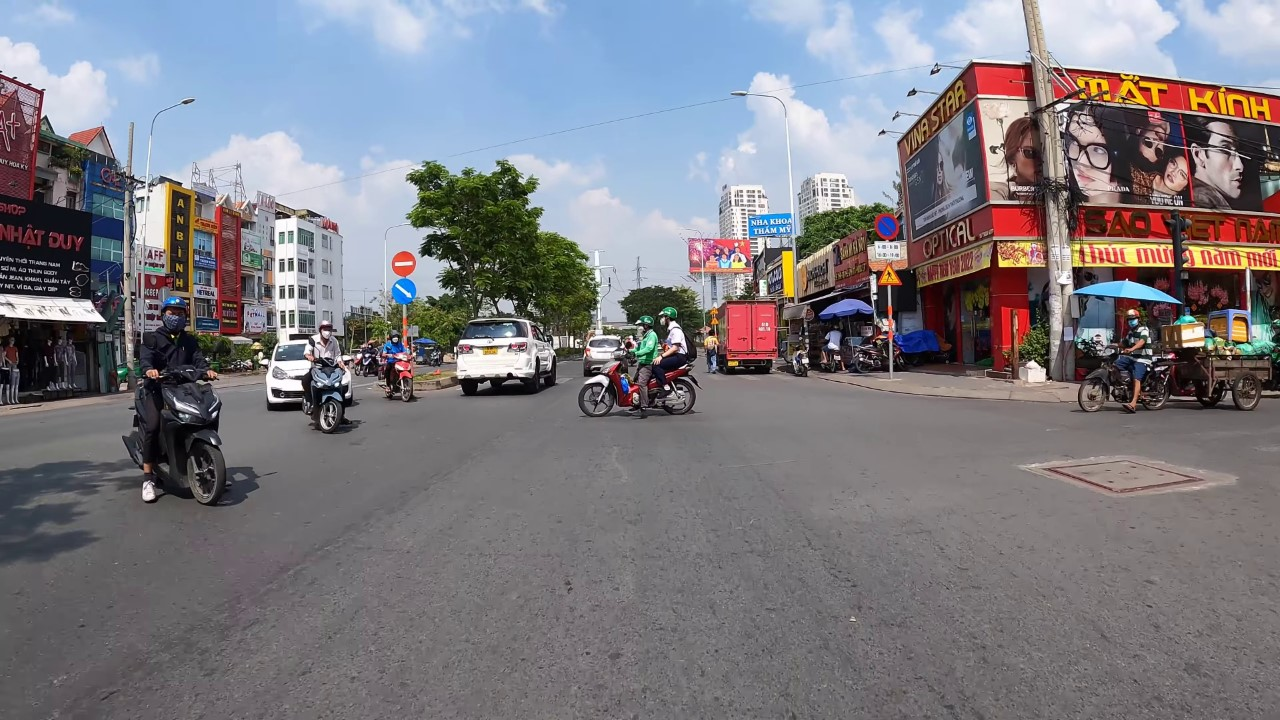cam_do_xe: (872, 210, 902, 242)
cam_nguoc_chieu: (389, 247, 419, 278)
can_than_nguoi_qua_duong: (876, 260, 903, 287)
huong_phai_di_vong: (389, 276, 418, 307)
